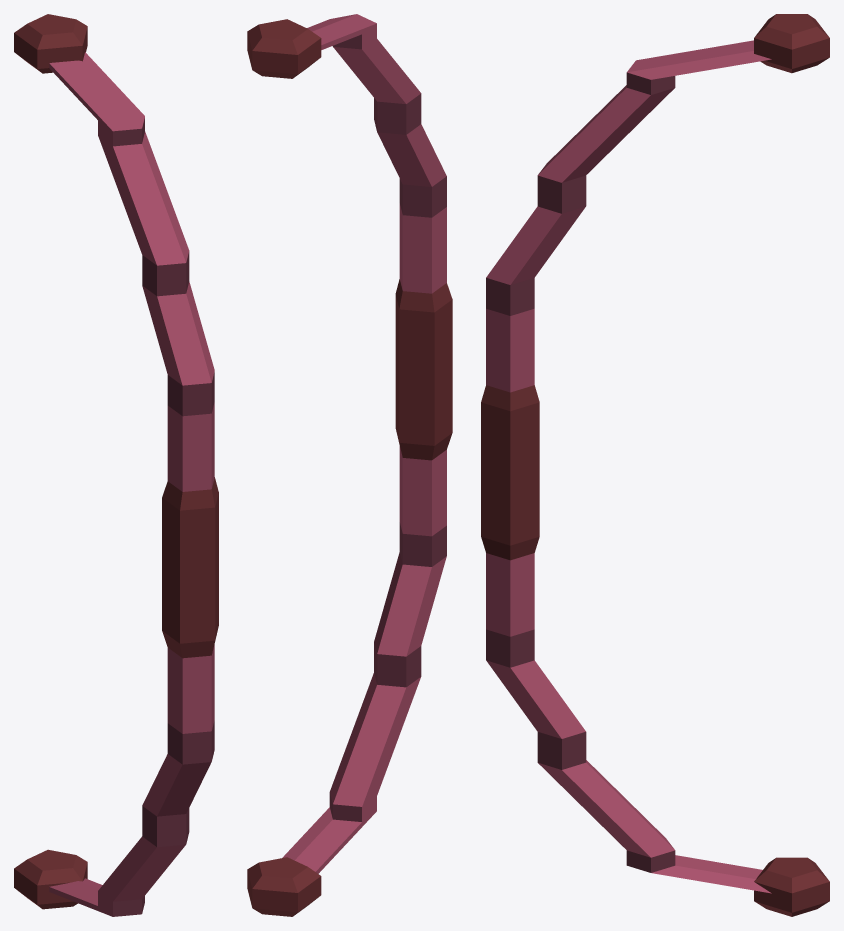
The model's file is arco_new.fbx.
3 renders of one model, left to right at view 1: azimuth 30°, elevation 25°; view 2: azimuth 150°, elevation 25°; view 3: azimuth 270°, elevation 25°, orthographic.
Parts seen in each view (by area): view 1: pCylinder11; view 2: pCylinder11; view 3: pCylinder11.
Boxes of the visible parts, x1=… form: pCylinder11: x1=14, y1=14, x2=218, y2=916; pCylinder11: x1=247, y1=14, x2=452, y2=916; pCylinder11: x1=481, y1=14, x2=829, y2=916.
Size of the model in its own units: 0.3624 by 4.88 by 1.75.
